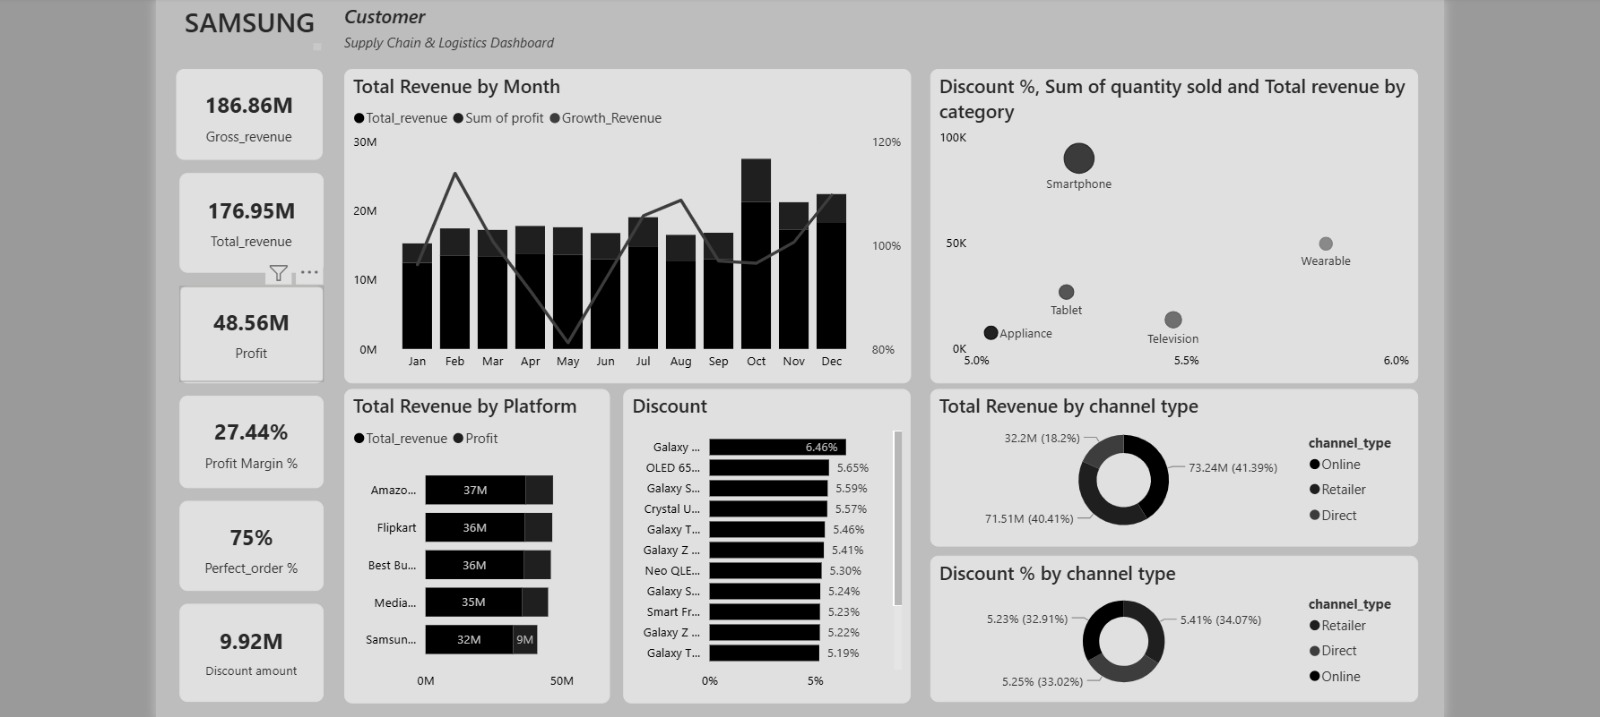

What the dashboard file says about the page in this screenshot:
{"tool":"powerbi","page":{"name":"Customer","canvas":[1280,720],"ordinal":5},"visuals":[{"type":"shape","title":"Customer","box":[187,6,217.2,51.9],"z":0},{"type":"cardVisual","fields":{"Data":["Folder.Total_revenue"]},"box":[22.9,174.7,143.6,98.9],"z":1000},{"type":"cardVisual","fields":{"Data":["Folder.Perfect_order %"]},"box":[22.9,500.9,143.6,89.3],"z":2000},{"type":"cardVisual","fields":{"Data":["Folder.Profit"]},"box":[22.9,286.7,143.6,96.5],"z":3000},{"type":"cardVisual","fields":{"Data":["Folder.Profit Margin %"]},"box":[22.9,396.2,143.6,91.7],"z":4000},{"type":"cardVisual","fields":{"Data":["Sum(fact_sales.discount_amount)"]},"box":[22.9,603.2,143.6,97.7],"z":5000},{"type":"cardVisual","fields":{"Data":["Sum(fact_sales.gross_revenue)"]},"box":[20.5,71.2,146,90.5],"z":6000},{"type":"barChart","title":"Total Revenue by Platform","fields":{"Category":["dim_customer.customer_name"],"Y":["Folder.Total_revenue","Folder.Profit"]},"box":[187,389.7,264.2,312.5],"z":7000},{"type":"donutChart","title":"Total Revenue by channel type","fields":{"Y":["Folder.Total_revenue"],"Category":["dim_customer.channel_type"]},"box":[769.7,389.7,485,156.8],"z":8000},{"type":"lineStackedColumnComboChart","title":"Total Revenue by Month","fields":{"Category":["dim_date.Month_Short"],"Y":["Folder.Total_revenue","Sum(fact_sales.profit)"],"Y2":["Folder.Growth_Revenue"]},"box":[187,71.2,563.4,312.5],"z":9000},{"type":"scatterChart","title":"Discount %, Sum of quantity sold and Total revenue by category","fields":{"X":["fact_sales.Discount %"],"Y":["Sum(fact_sales.quantity_sold)"],"Series":["dim_product.category"],"Size":["Folder.Total_revenue"]},"box":[769.7,71.2,485,312.5],"z":10000},{"type":"clusteredBarChart","title":"Discount ","fields":{"Category":["dim_product.product_name"],"Y":["fact_sales.Discount %"]},"box":[464.5,389.7,285.9,312.5],"z":11000},{"type":"donutChart","title":"Discount % by channel type","fields":{"Category":["dim_customer.channel_type"],"Y":["fact_sales.Discount %"]},"box":[769.7,555,485,146],"z":12000},{"type":"textbox","title":"SAMSUNG","box":[22.9,6,146,51.9],"z":13000}]}

Visuals, with their boxes on the page's 1280x720 design canvas (x1, y1, x2, y2). These are canvas units, not pixel positions in the 1600x717 screenshot, which may show the page scaled, cropped or inside an application window:
"Customer" shape: l=187, t=6, r=404, b=58
cardVisual - Folder.Total_revenue: l=23, t=175, r=166, b=274
cardVisual - Folder.Perfect_order %: l=23, t=501, r=166, b=590
cardVisual - Folder.Profit: l=23, t=287, r=166, b=383
cardVisual - Folder.Profit Margin %: l=23, t=396, r=166, b=488
cardVisual - Sum(fact_sales.discount_amount): l=23, t=603, r=166, b=701
cardVisual - Sum(fact_sales.gross_revenue): l=20, t=71, r=166, b=162
"Total Revenue by Platform" barChart: l=187, t=390, r=451, b=702
"Total Revenue by channel type" donutChart: l=770, t=390, r=1255, b=546
"Total Revenue by Month" lineStackedColumnComboChart: l=187, t=71, r=750, b=384
"Discount %, Sum of quantity sold and Total revenue by category" scatterChart: l=770, t=71, r=1255, b=384
"Discount " clusteredBarChart: l=464, t=390, r=750, b=702
"Discount % by channel type" donutChart: l=770, t=555, r=1255, b=701
"SAMSUNG" textbox: l=23, t=6, r=169, b=58
